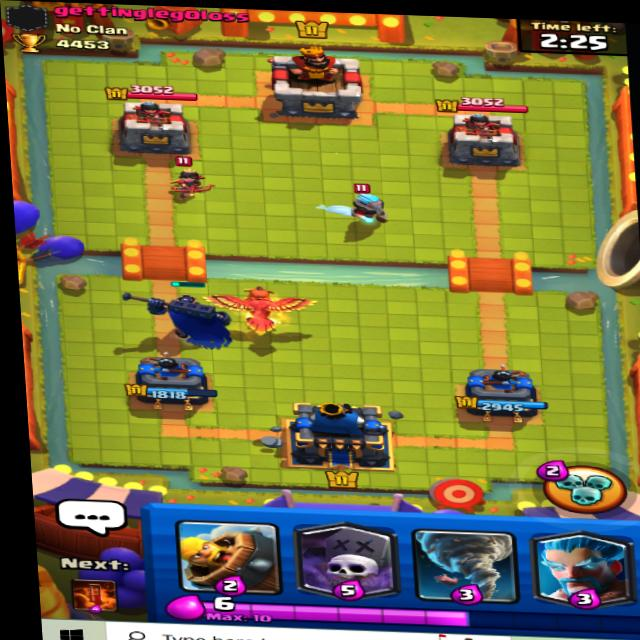ice-wizard: (339, 174, 400, 233)
princess: (144, 150, 223, 201)
